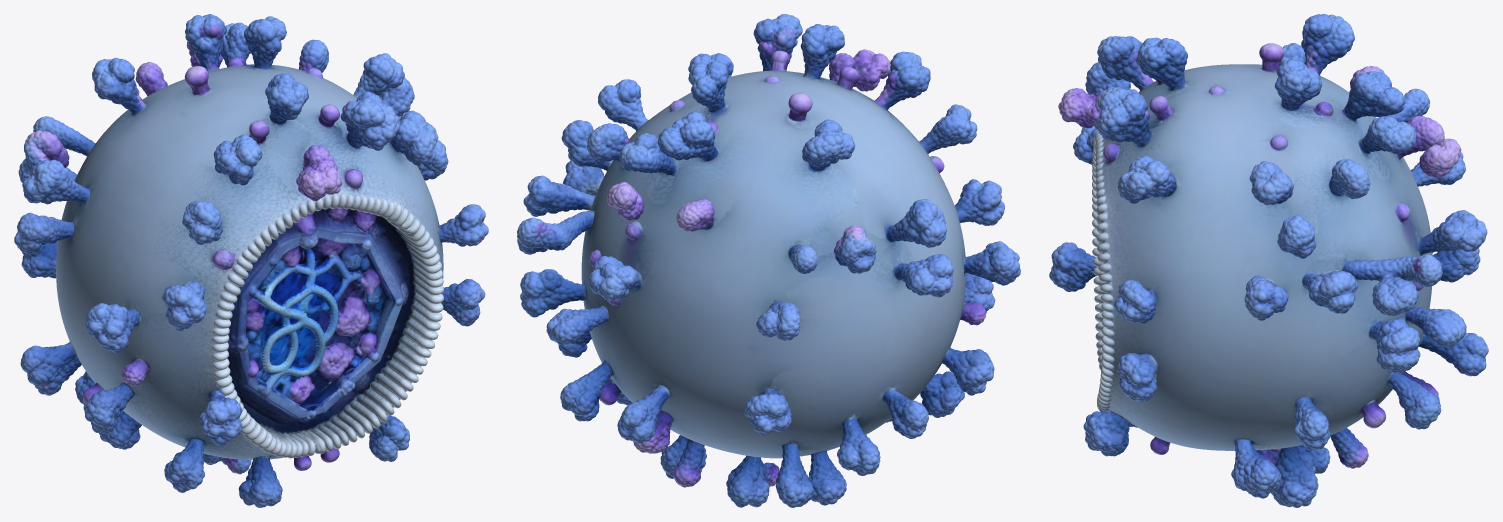
Rendered from virus-particle.glb.
3 renders of one model, left to right at view 1: azimuth 30°, elevation 25°; view 2: azimuth 150°, elevation 25°; view 3: azimuth 270°, elevation 25°, orthographic.
Parts seen in each view (by area): view 1: node_0; view 2: node_0; view 3: node_0.
Part boxes in pixels (x1,y1,x2,y2): node_0: (14, 14, 488, 507); node_0: (517, 14, 1020, 507); node_0: (1049, 14, 1488, 507).
Size of the model in its own units: 1.03 by 1.04 by 0.9484.
1 material, 1 textured.
